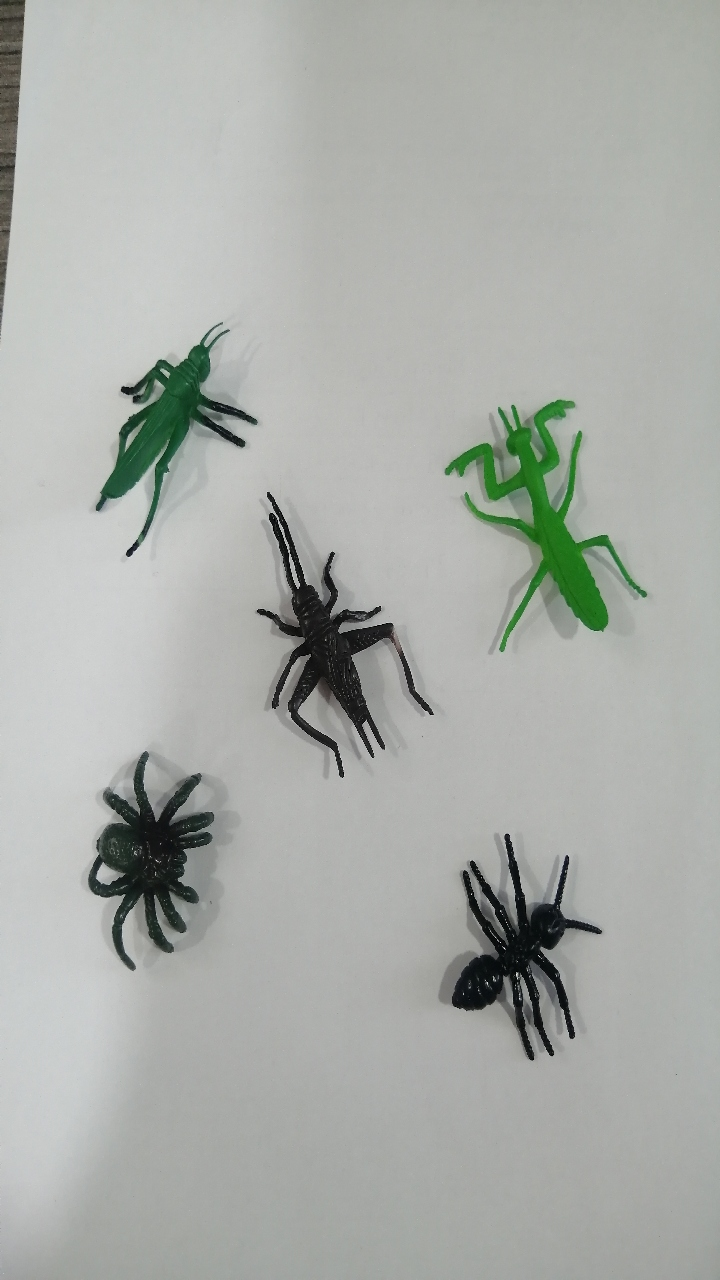intruso: (397, 362, 655, 668), (401, 802, 634, 1097), (228, 486, 444, 795), (41, 297, 264, 555), (52, 726, 241, 985)
